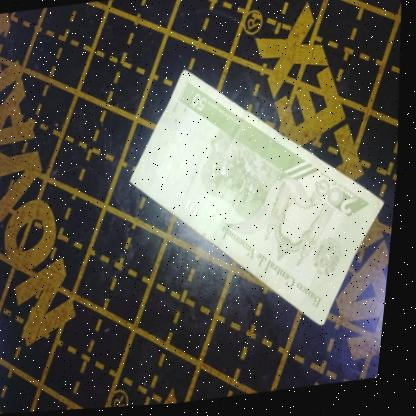fifty-back-vef: (112, 46, 410, 353)
